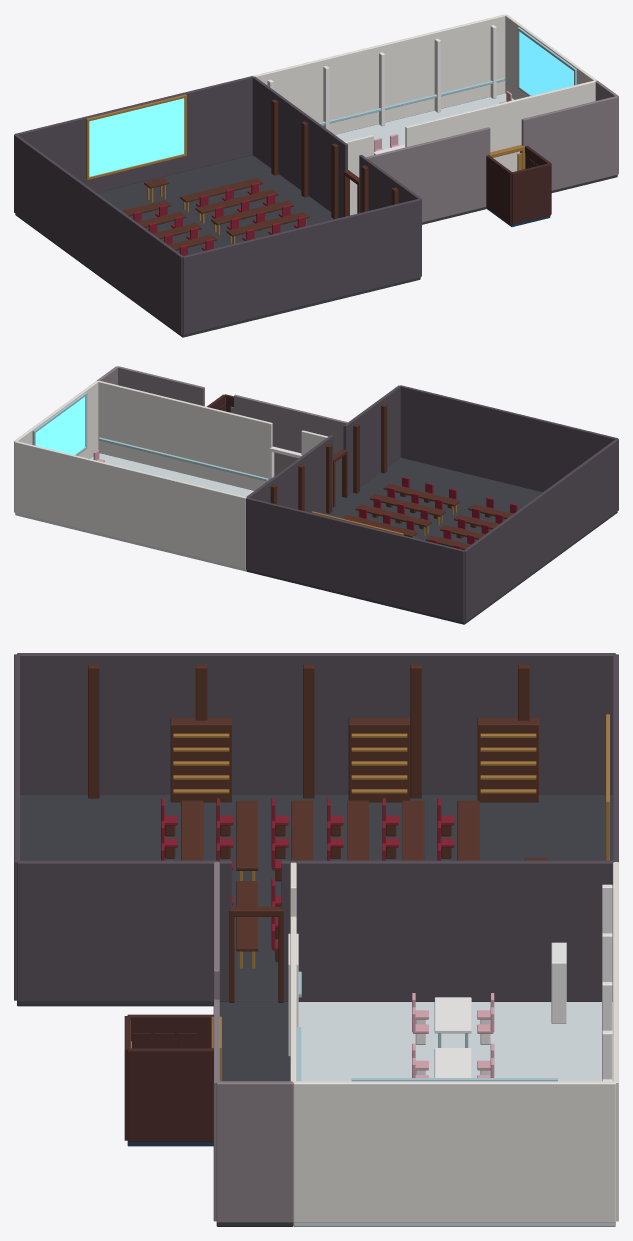
Rendered from sedec-school-world.fbx.
The picture shows the model from 3 angles, top to bottom: view 1: azimuth 30°, elevation 25°; view 2: azimuth 150°, elevation 25°; view 3: azimuth 270°, elevation 25°; orthographic projection. The views are drawn at different scales.
Visible parts, largest first — view 1: MAIN_WALL_SOUTH, SUB_WALL_NORTH, MAIN_WALL_WEST, MAIN_WALL_NORTH, MAIN_FLOOR, CORRIDOR_WALL_SOUTH_WEST, CORRIDOR_WALL_SOUTH_EAST, MAIN_WALL_EAST_NORTH, SCREEN_MAIN_SURFACE, SUB_WALL_SOUTH_EAST, SCREEN_SUB_SURFACE, ELEVATOR_WALL_BACK (+15 smaller); view 2: SUB_WALL_NORTH, MAIN_WALL_NORTH, MAIN_WALL_SOUTH, SUB_WALL_SOUTH_EAST, MAIN_WALL_WEST, MAIN_FLOOR, CORRIDOR_WALL_SOUTH_WEST, MAIN_WALL_EAST_SOUTH, MAIN_WALL_EAST_NORTH, SUB_FLOOR, SCREEN_SUB_SURFACE, CORRIDOR_WALL_SOUTH_EAST (+10 smaller); view 3: MAIN_WALL_WEST, SUB_WALL_EAST, MAIN_WALL_EAST_NORTH, MAIN_FLOOR, MAIN_WALL_EAST_SOUTH, SUB_FLOOR, CORRIDOR_WALL_EAST, ELEVATOR_WALL_EAST, CORRIDOR_FLOOR, MAIN_BOOKCASE_02, MAIN_BOOKCASE_03, MAIN_BOOKCASE_01 (+21 smaller).
Boxes of the visible parts, box(x1,y1,x2,y2) form: MAIN_WALL_SOUTH: box(182, 198, 421, 334); SUB_WALL_NORTH: box(253, 14, 505, 134); MAIN_WALL_WEST: box(14, 134, 183, 334); MAIN_WALL_NORTH: box(14, 76, 252, 192); MAIN_FLOOR: box(15, 155, 420, 337); CORRIDOR_WALL_SOUTH_WEST: box(365, 127, 490, 222); CORRIDOR_WALL_SOUTH_EAST: box(521, 96, 618, 190); MAIN_WALL_EAST_NORTH: box(252, 76, 347, 217); SCREEN_MAIN_SURFACE: box(89, 98, 184, 176); SUB_WALL_SOUTH_EAST: box(405, 80, 595, 171); SCREEN_SUB_SURFACE: box(519, 32, 573, 95); ELEVATOR_WALL_BACK: box(511, 163, 550, 224); SUB_WALL_NORTH: box(14, 441, 246, 569); MAIN_WALL_NORTH: box(246, 497, 464, 622); MAIN_WALL_SOUTH: box(400, 385, 618, 492); SUB_WALL_SOUTH_EAST: box(98, 380, 272, 490); MAIN_WALL_WEST: box(464, 438, 618, 622); MAIN_FLOOR: box(246, 457, 617, 624); CORRIDOR_WALL_SOUTH_WEST: box(234, 394, 348, 492); MAIN_WALL_EAST_SOUTH: box(343, 385, 400, 495); MAIN_WALL_EAST_NORTH: box(246, 435, 333, 513); SUB_FLOOR: box(15, 453, 253, 571); SCREEN_SUB_SURFACE: box(35, 396, 85, 454); CORRIDOR_WALL_SOUTH_EAST: box(118, 366, 204, 406); MAIN_WALL_WEST: box(17, 653, 615, 794); SUB_WALL_EAST: box(293, 1081, 615, 1222); MAIN_WALL_EAST_NORTH: box(281, 860, 615, 1001); MAIN_FLOOR: box(17, 794, 612, 1006); MAIN_WALL_EAST_SOUTH: box(17, 860, 231, 1001); SUB_FLOOR: box(293, 1002, 615, 1226); CORRIDOR_WALL_EAST: box(216, 1081, 293, 1222); ELEVATOR_WALL_EAST: box(127, 1048, 213, 1141); CORRIDOR_FLOOR: box(216, 1001, 293, 1226); MAIN_BOOKCASE_02: box(348, 718, 410, 802); MAIN_BOOKCASE_03: box(477, 718, 538, 802); MAIN_BOOKCASE_01: box(170, 718, 231, 802).
Bounding box in the file's own units: 33.2 × 5.21 × 19.7.
